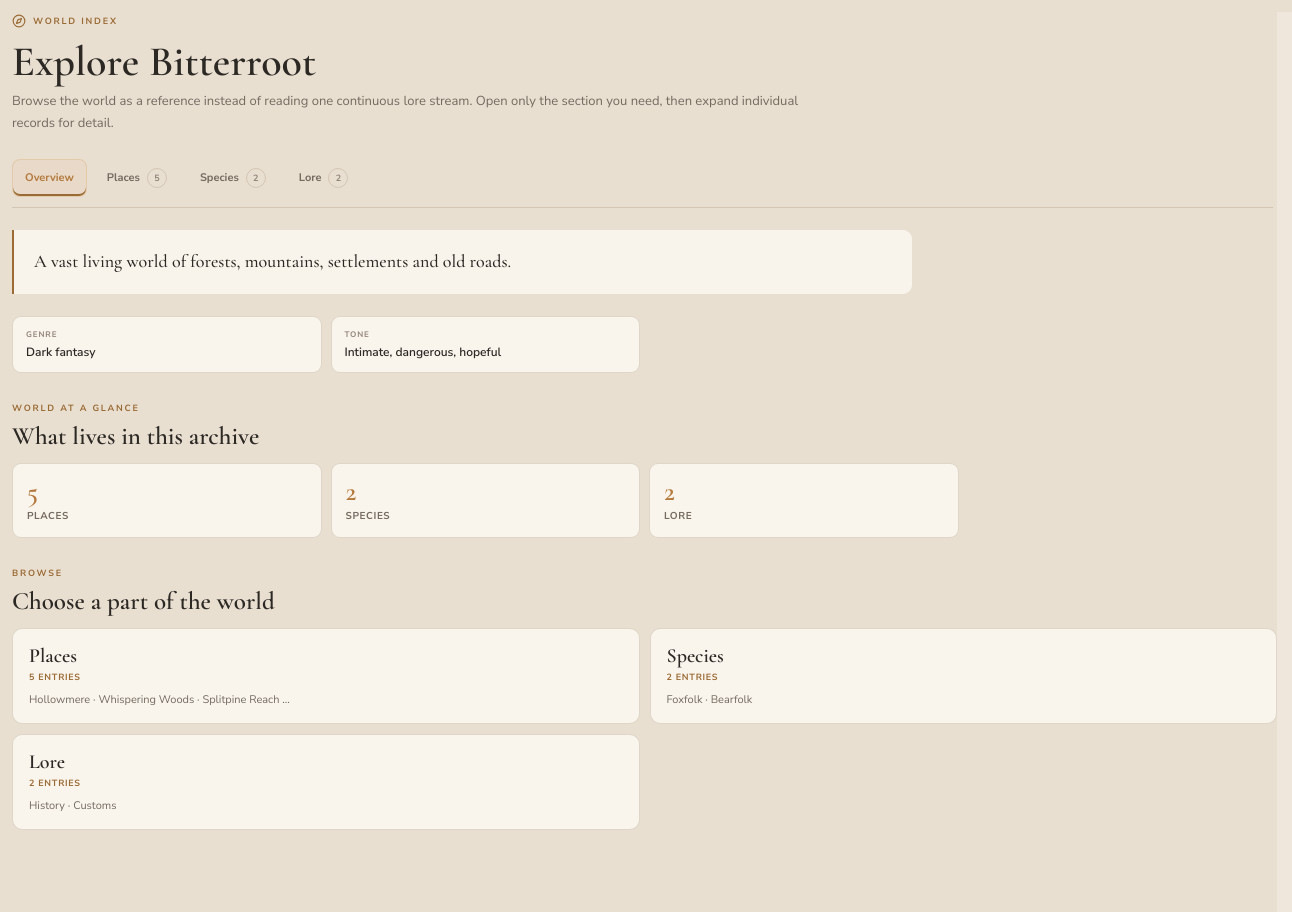
Test: world portal › opens a category and filters large record collections without leaving the world page
Click the tab "Places 5" at {"x": 137, "y": 178}, box [94, 159, 180, 197]
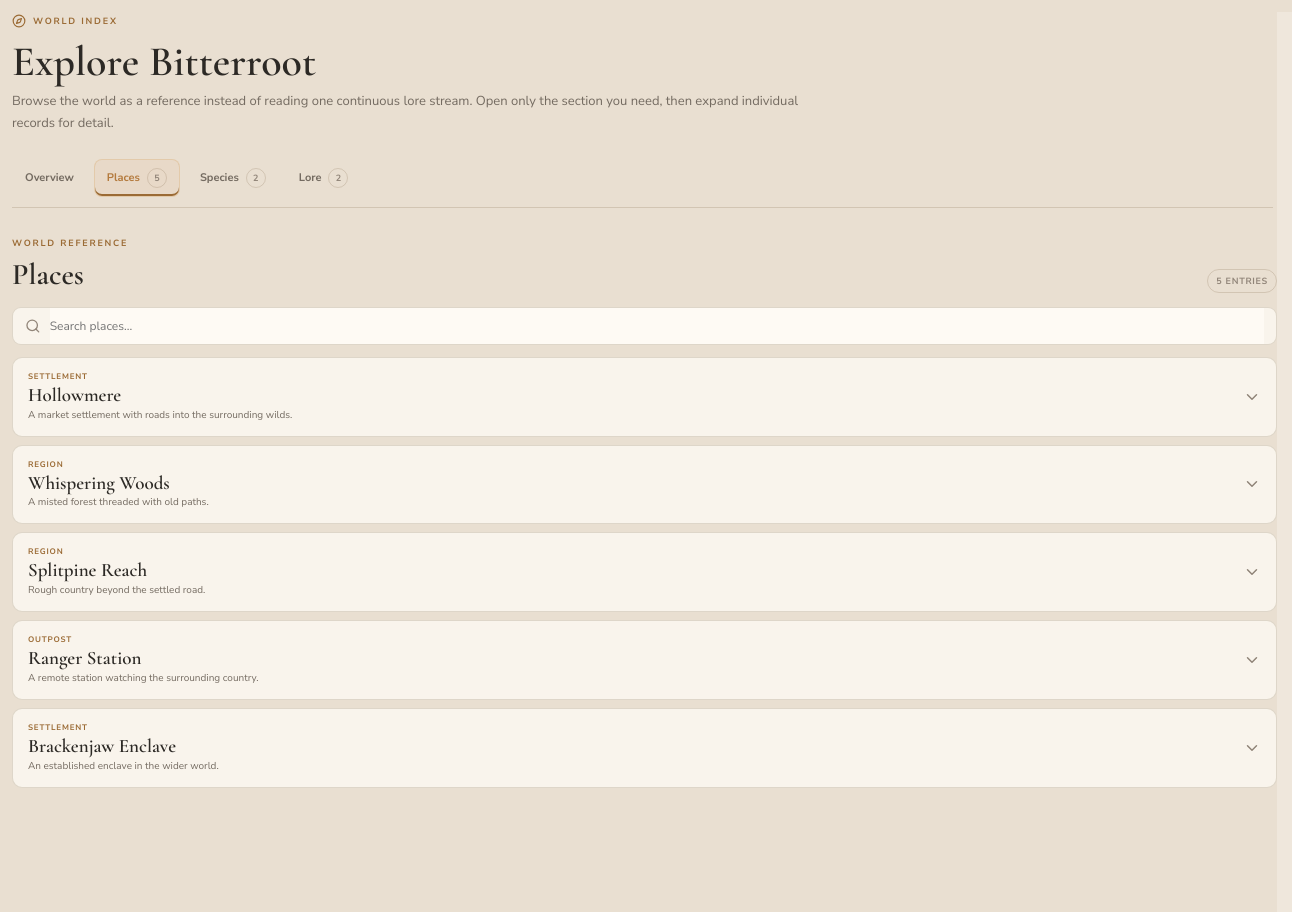
Expected: the text "Hollowmere" is shown, [28, 383, 121, 406]
Expected: the text "Whispering Woods" is shown, [28, 471, 170, 494]
Type "whisper" into the search field labelled "Search places" at {"x": 657, "y": 326}, box [50, 308, 1264, 344]
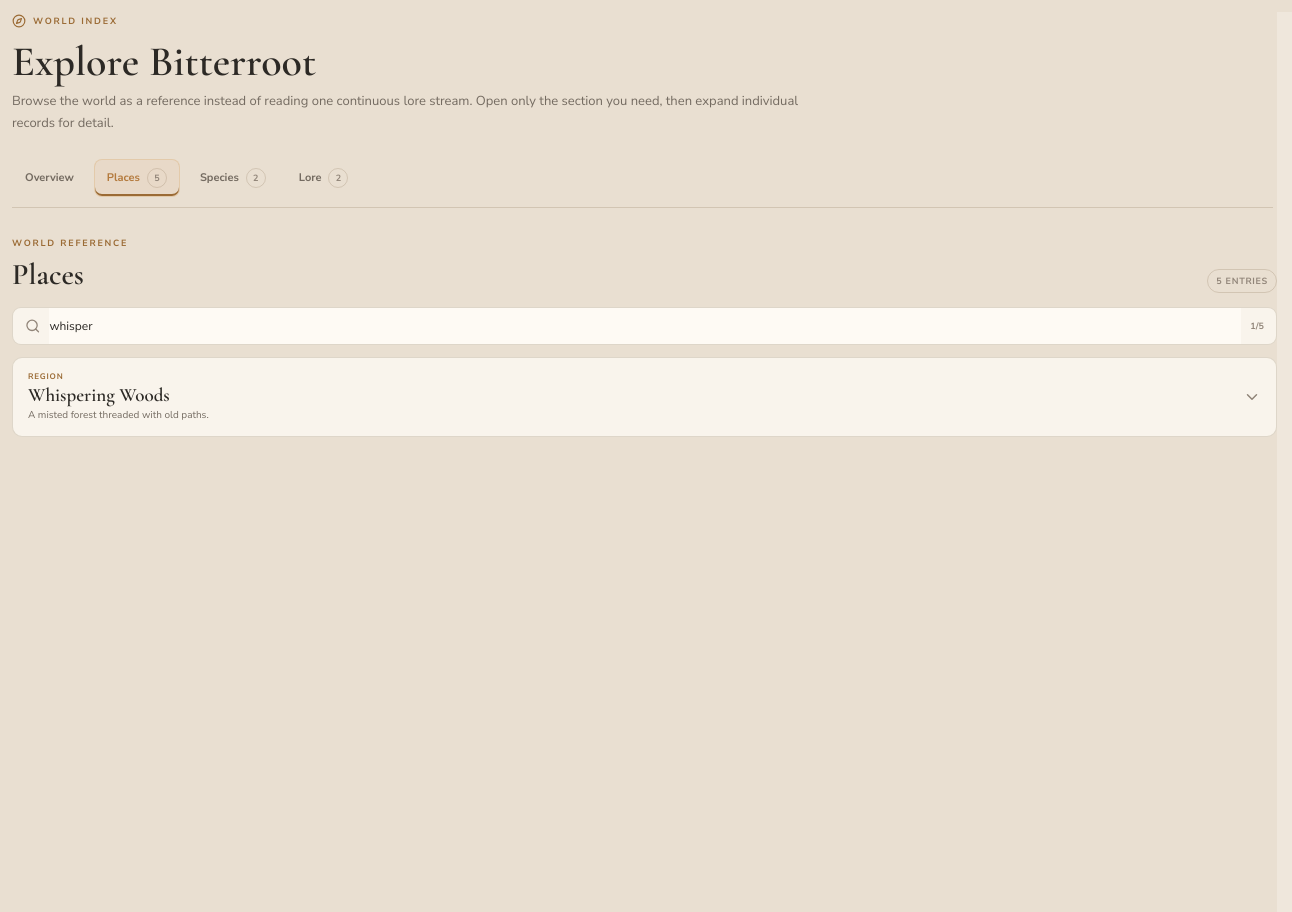
Expected: the text "Whispering Woods" is shown, [28, 383, 170, 406]
Expected: the heading "Hollowmere" is gone
Expected: the text "1/5" is shown, [1250, 320, 1264, 332]
